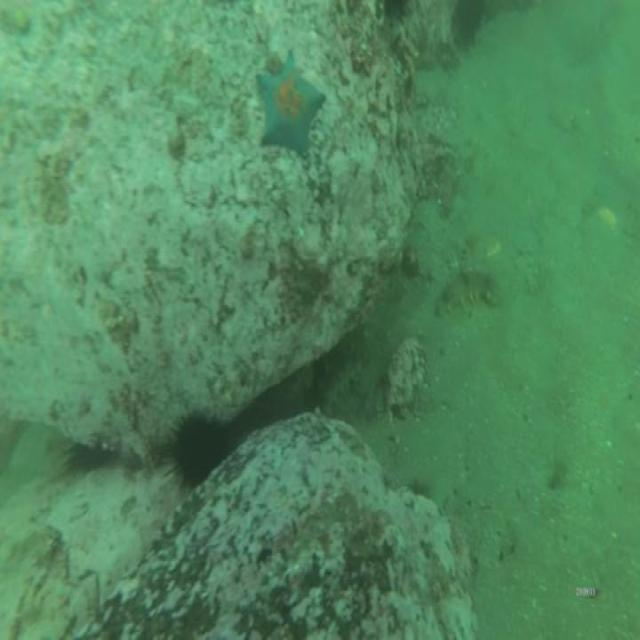echinus: (168, 409, 225, 485)
holothurian: (437, 266, 502, 314)
starfish: (254, 46, 327, 160)
